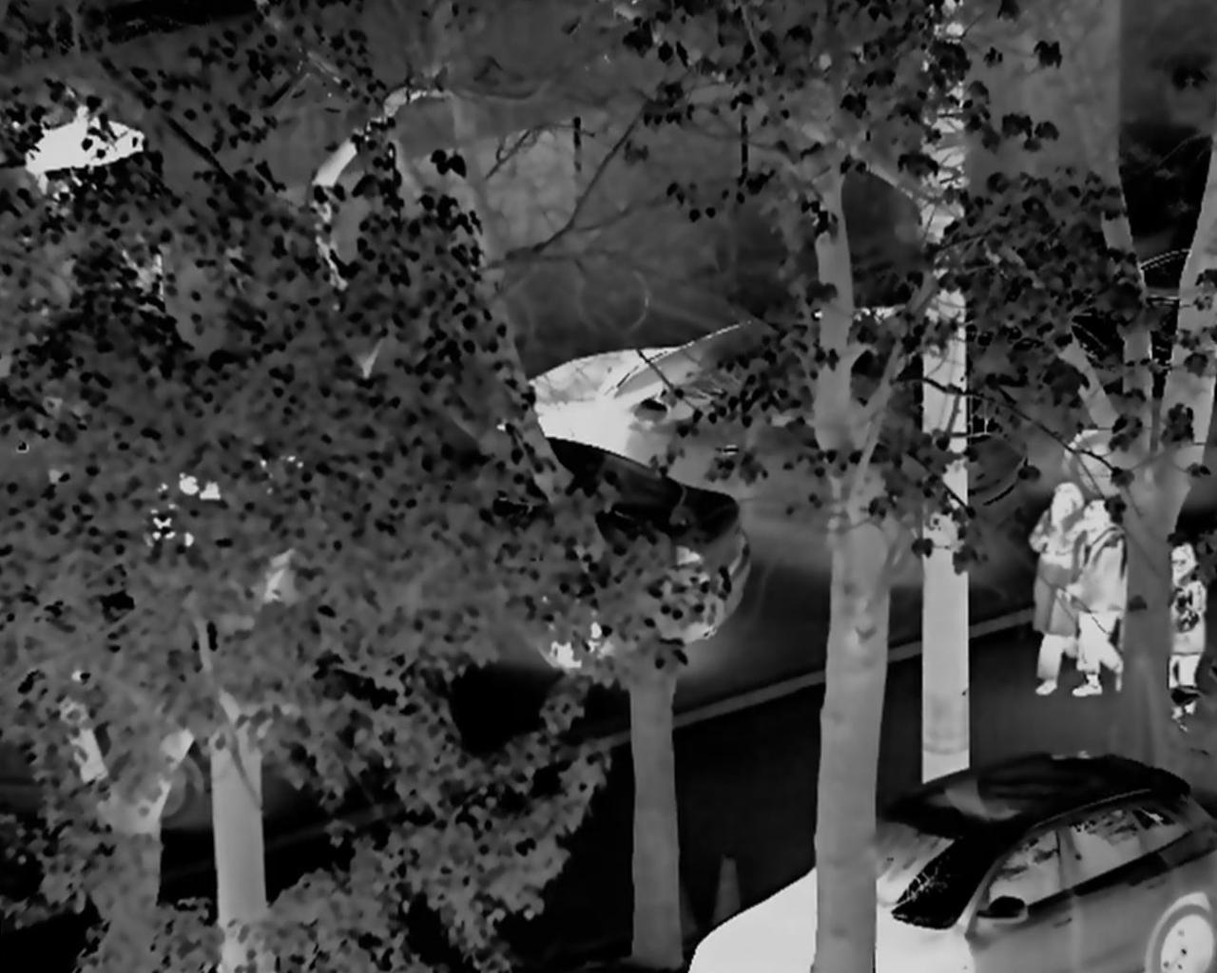person: (1029, 473, 1083, 694), (1072, 498, 1125, 693), (1169, 542, 1207, 718)
